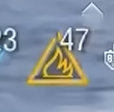1fire: (25, 54, 91, 88)
